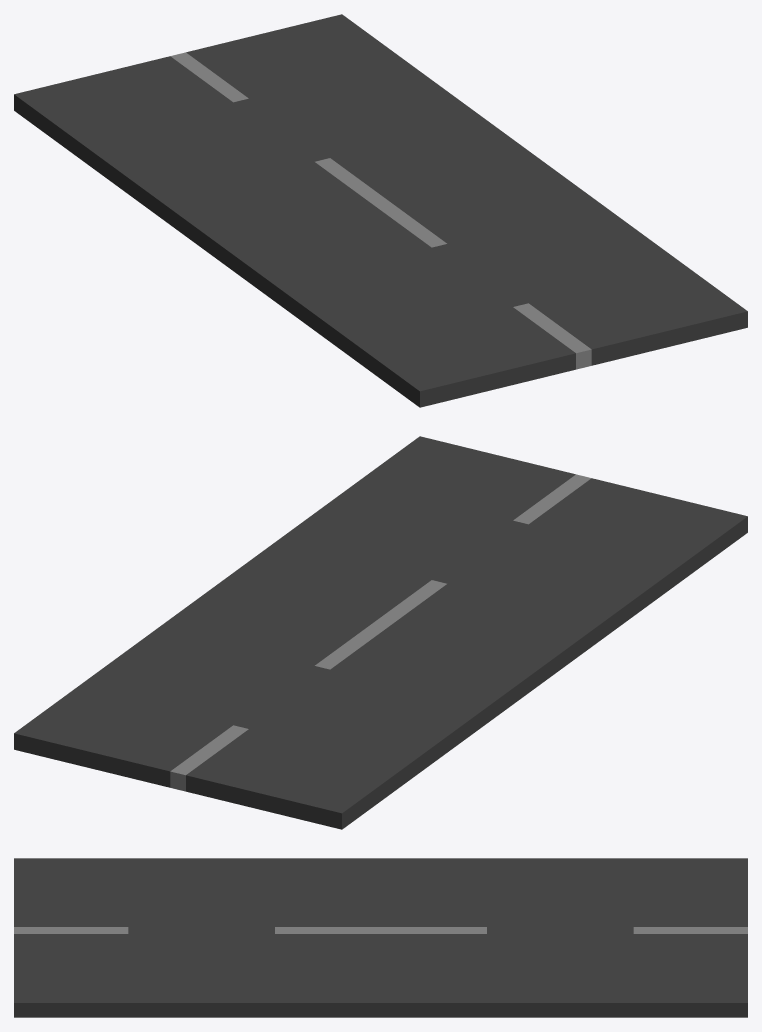
Rendered from road-001.obj.
3 views of the same model, one above another, from view 1: azimuth 30°, elevation 25°; view 2: azimuth 150°, elevation 25°; view 3: azimuth 270°, elevation 25° (orthographic). The views are drawn at different scales.
Size of the model in its own units: 21 by 1 by 45.
Materials: 1 (1 with a texture image).
